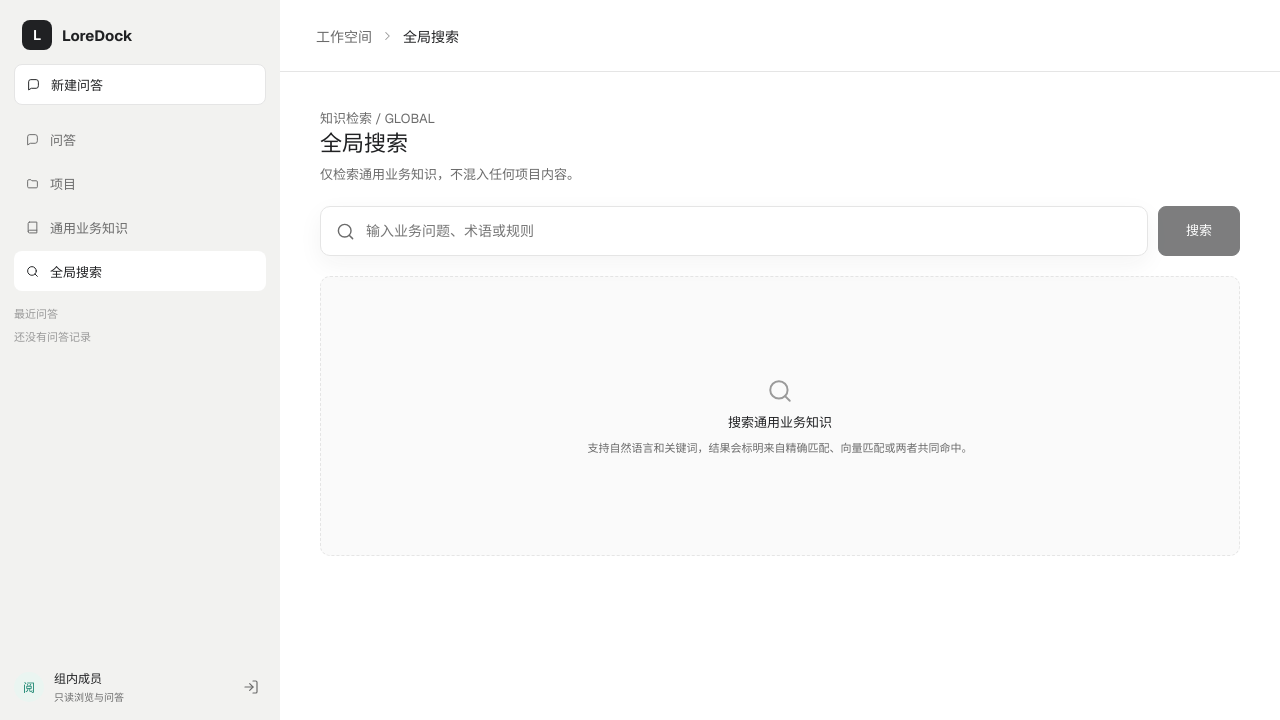
Test: GlobalSearchView › shows global hybrid results with exact match provenance and document links
Type "密码重置规则" into the search field with test id "global-search-input" at (749, 231), box x1=366 y1=222 x2=1132 y2=240
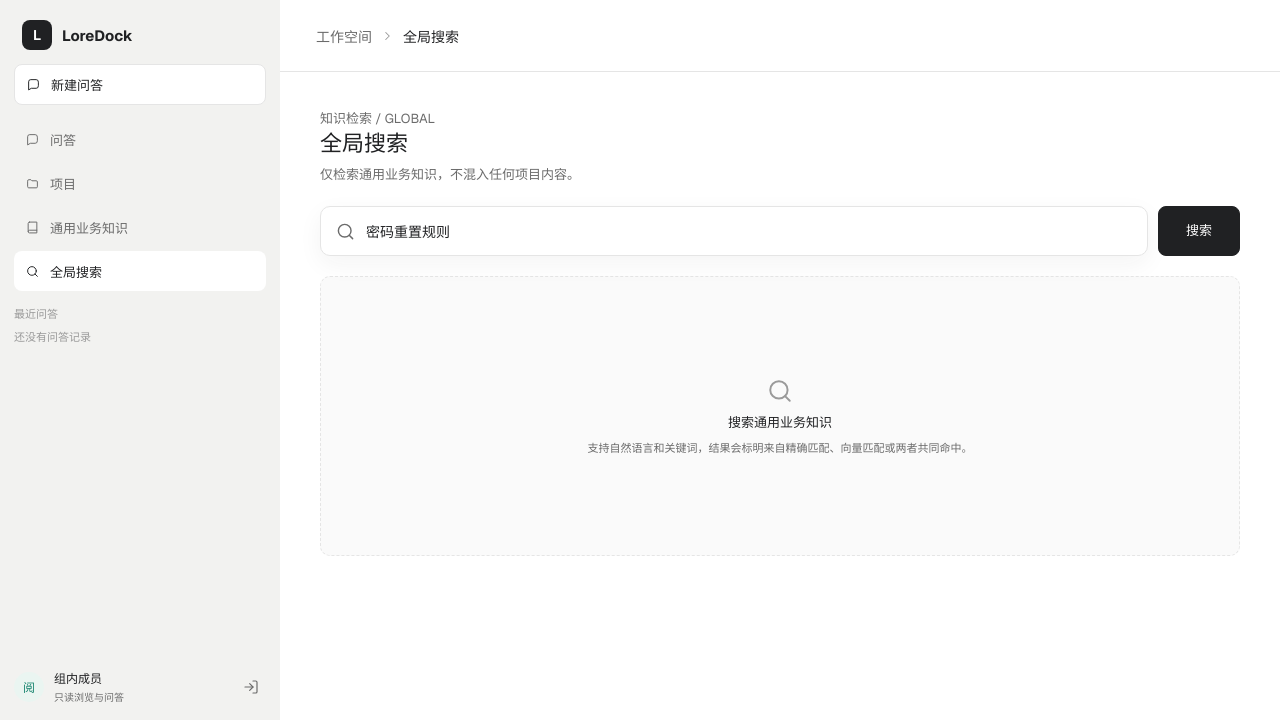
Submit the form with test id "global-search-form", box x1=320 y1=206 x2=1240 y2=256
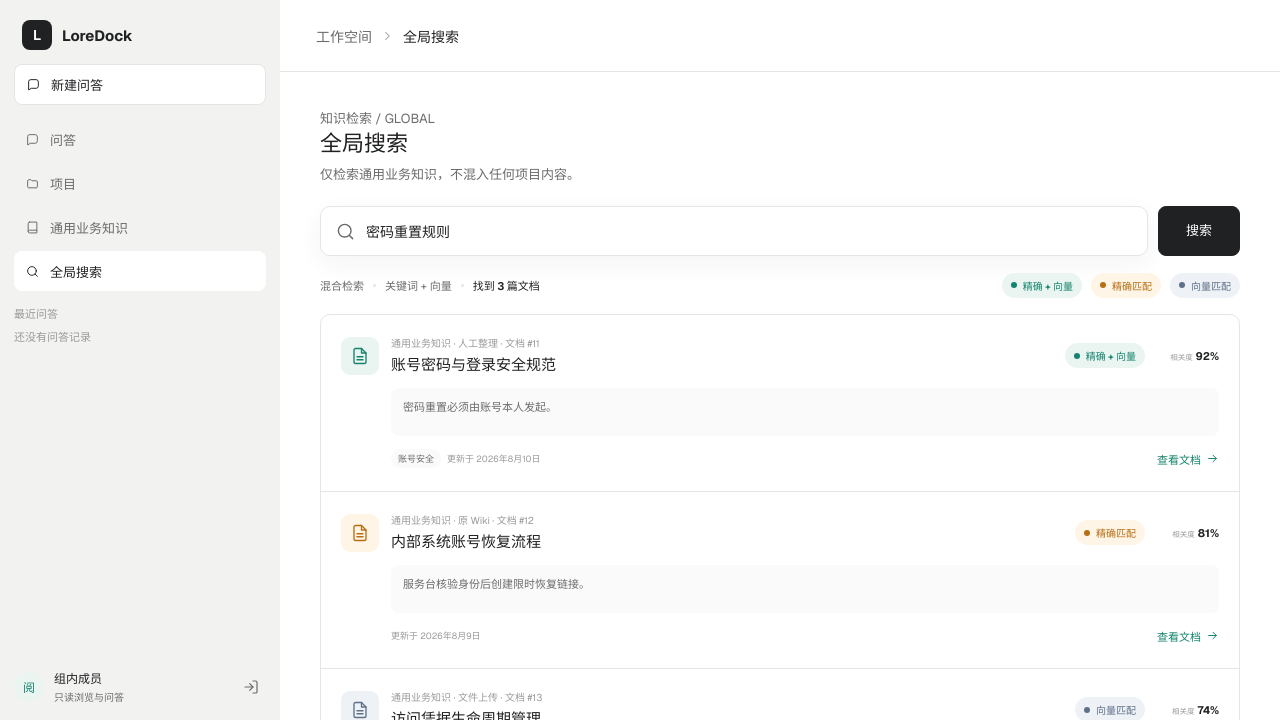
Expected: the element with test id "global-search-summary" shows "找到 3 篇文档", x1=473 y1=279 x2=540 y2=293
Expected: the element with test id "search-result-11" shows "精确 + 向量", x1=1086 y1=350 x2=1136 y2=363
Expected: the element with test id "search-result-12" shows "精确匹配", x1=1096 y1=527 x2=1136 y2=540
